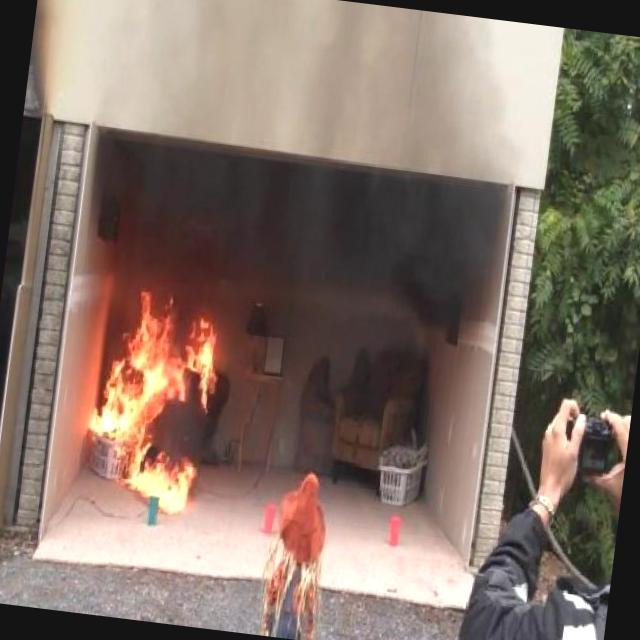fire: (80, 279, 242, 512)
smoke: (84, 136, 506, 327)
